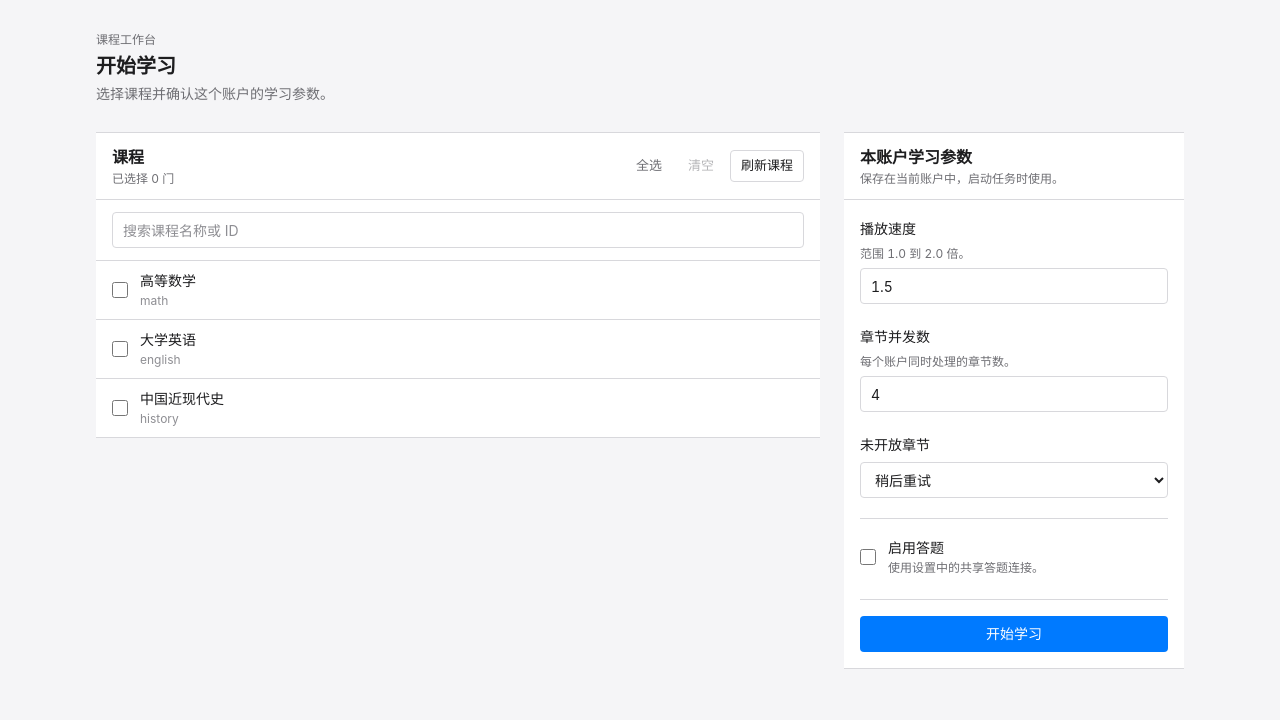
Test: search select-all clear and stale refresh preserve the last course list
Type "英语" into the search field labelled "搜索课程". click: (458, 230)
box: [112,212,804,248]
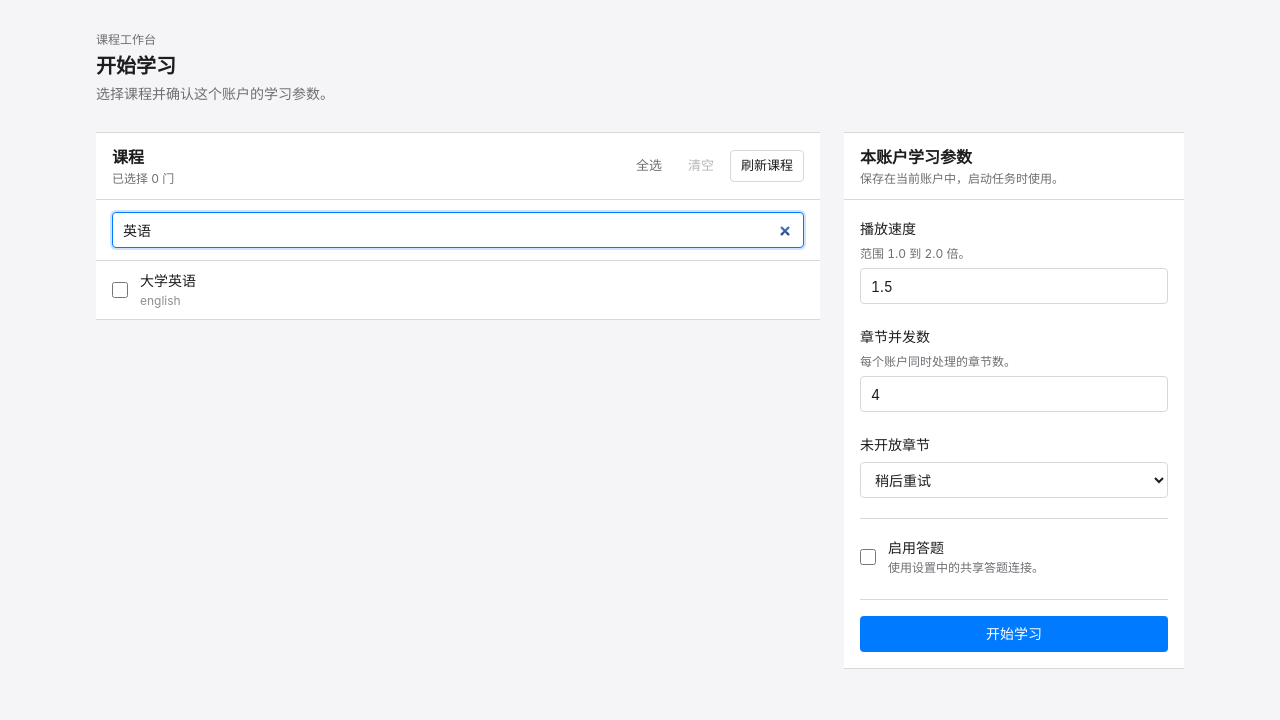
Expected: the text "大学英语" is shown, [140,272,196,289]
Result: the text "高等数学" is gone
Clear the search field named "搜索课程". click: (458, 230)
box: [112,212,804,248]
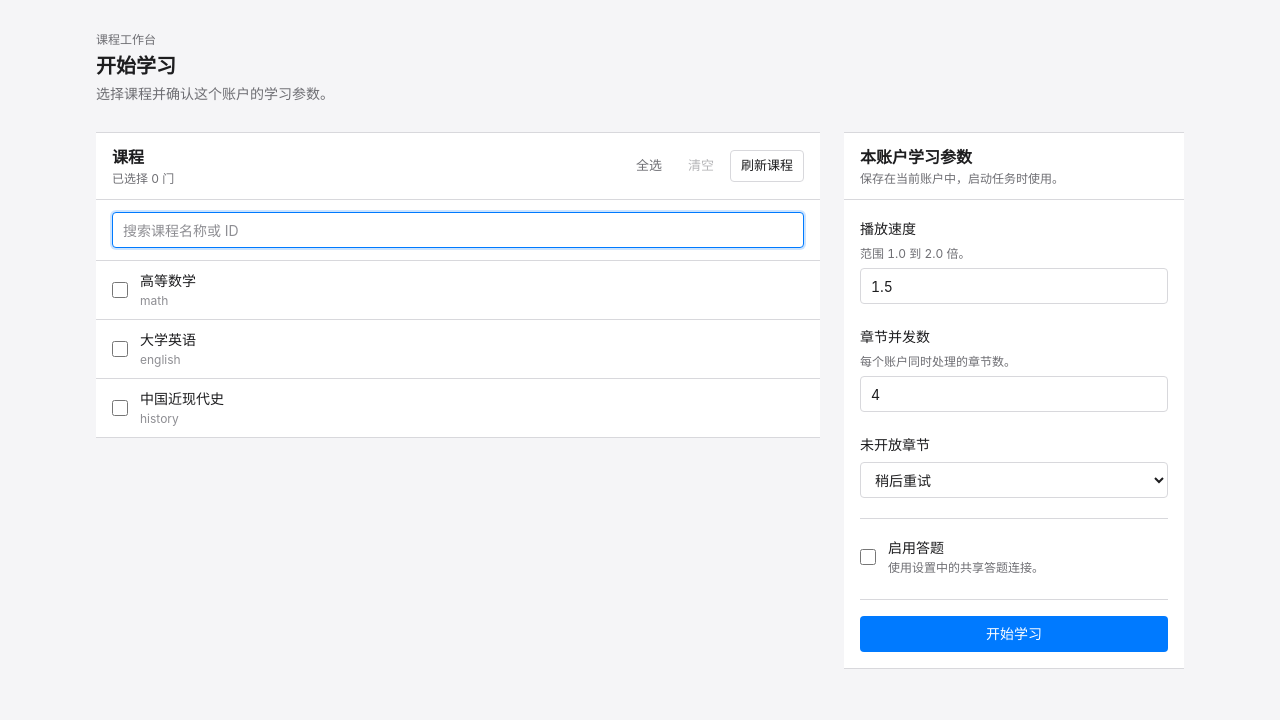
Click the button "全选". click: (649, 166)
box: [626,150,672,182]
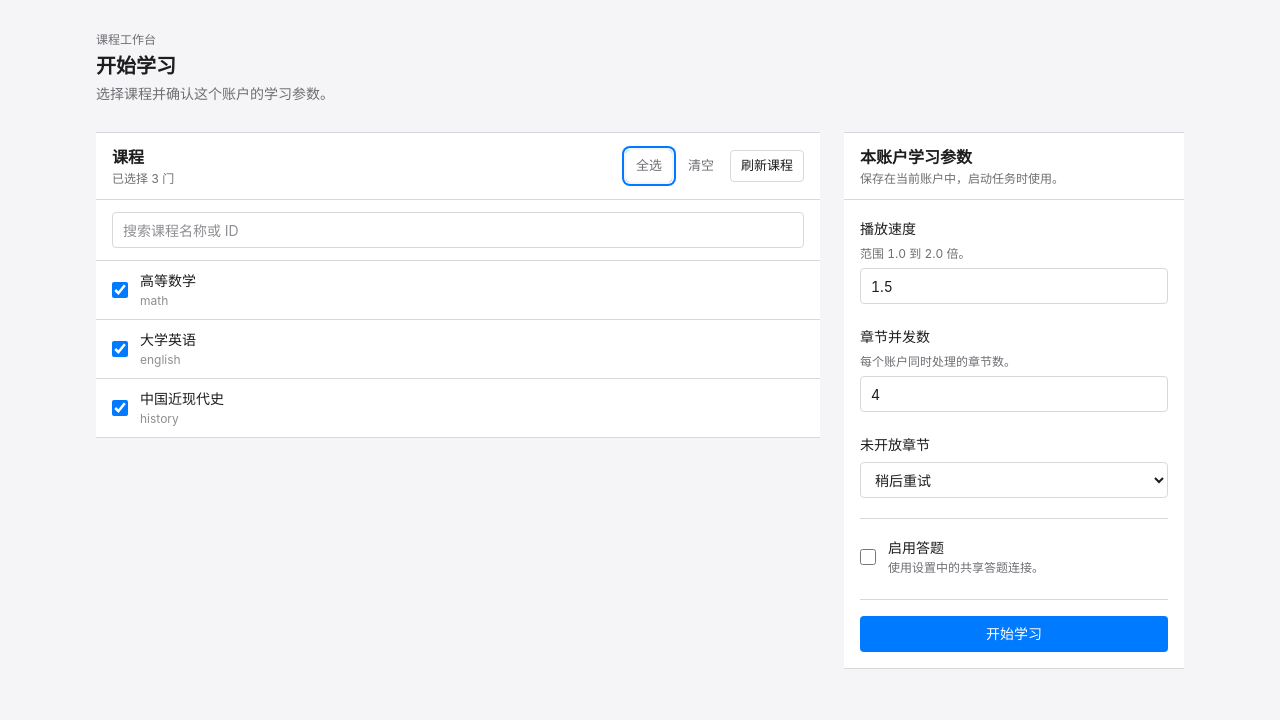
Click the button "清空". click: (701, 166)
box: [678,150,724,182]
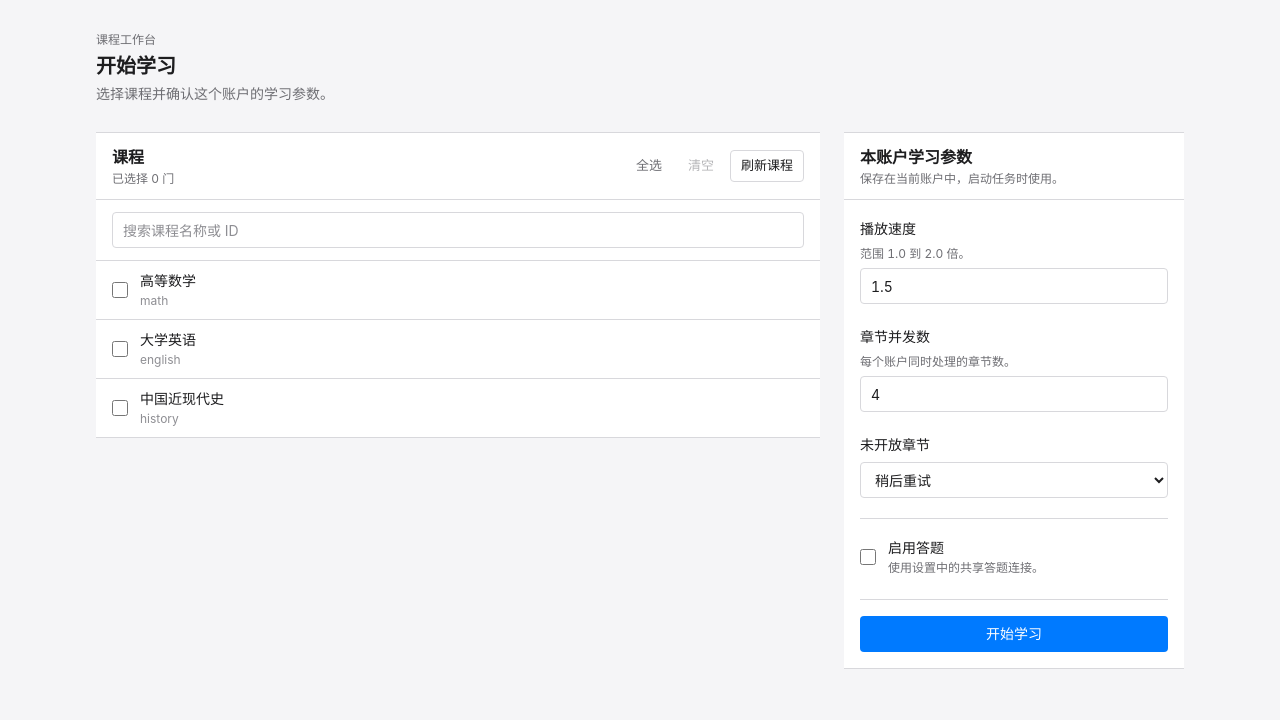
Click the button "刷新课程". click: (767, 166)
box: [730,150,804,182]
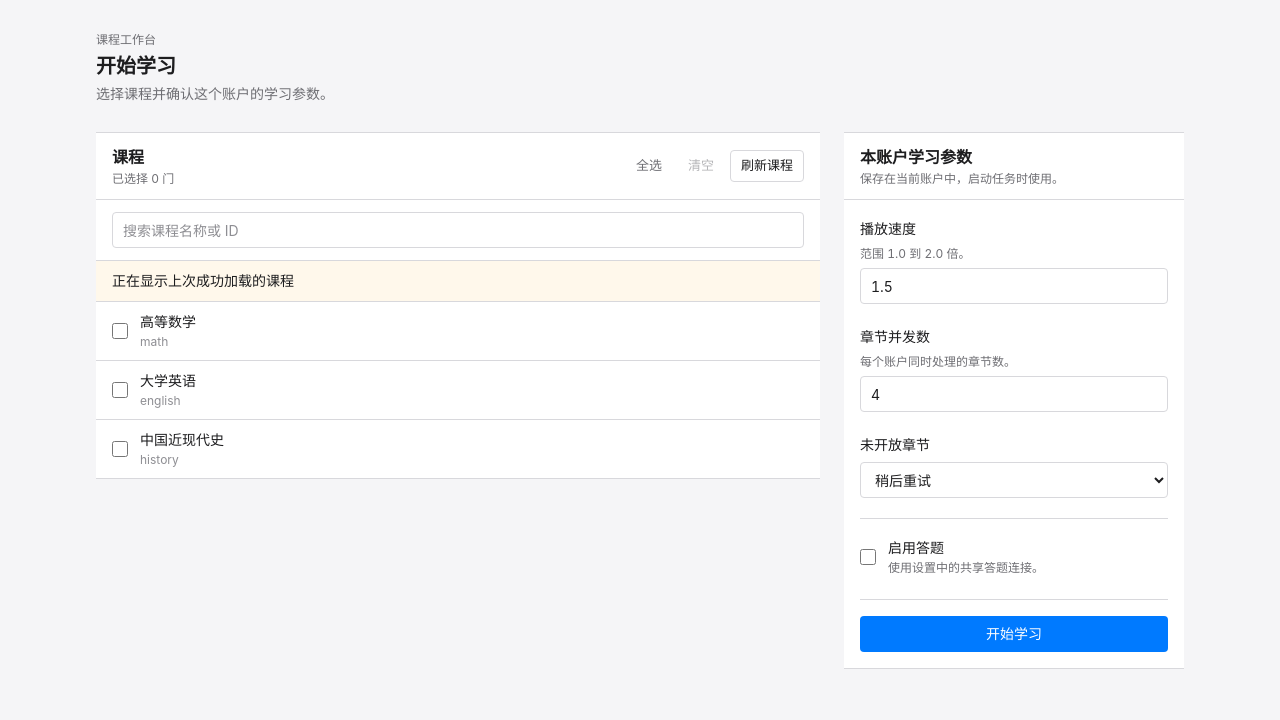
Result: the text "高等数学" is shown at [140,313,196,330]
Result: the text "正在显示上次成功加载的课程" is shown at [96,261,820,302]
